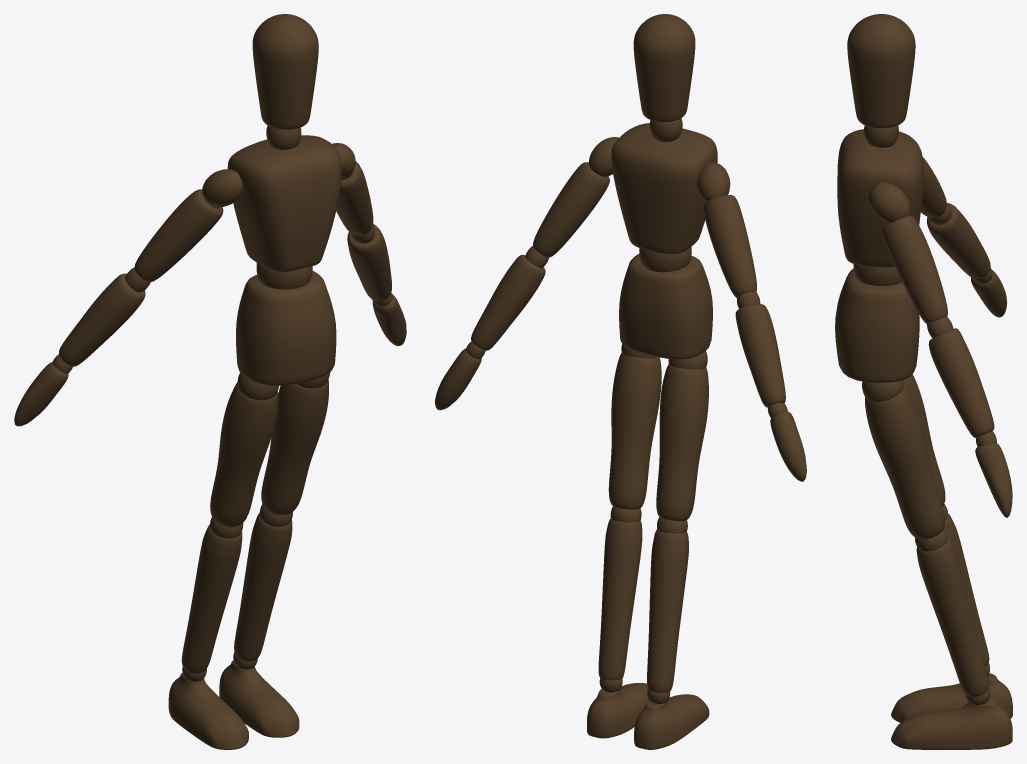
File: Mannequin.obj
3 views of the same model, side by side, from view 1: azimuth 30°, elevation 25°; view 2: azimuth 150°, elevation 25°; view 3: azimuth 270°, elevation 25° (orthographic). The views are drawn at different scales.
Visible parts, largest first — view 1: Stick-man_Sphere.004; view 2: Stick-man_Sphere.004; view 3: Stick-man_Sphere.004.
Part boxes in pixels (box(x1,y1,x2,y2)): Stick-man_Sphere.004: box(14, 14, 406, 749); Stick-man_Sphere.004: box(435, 14, 806, 749); Stick-man_Sphere.004: box(835, 14, 1012, 749).
Size of the model in its own units: 6.61 by 11.64 by 2.61.
